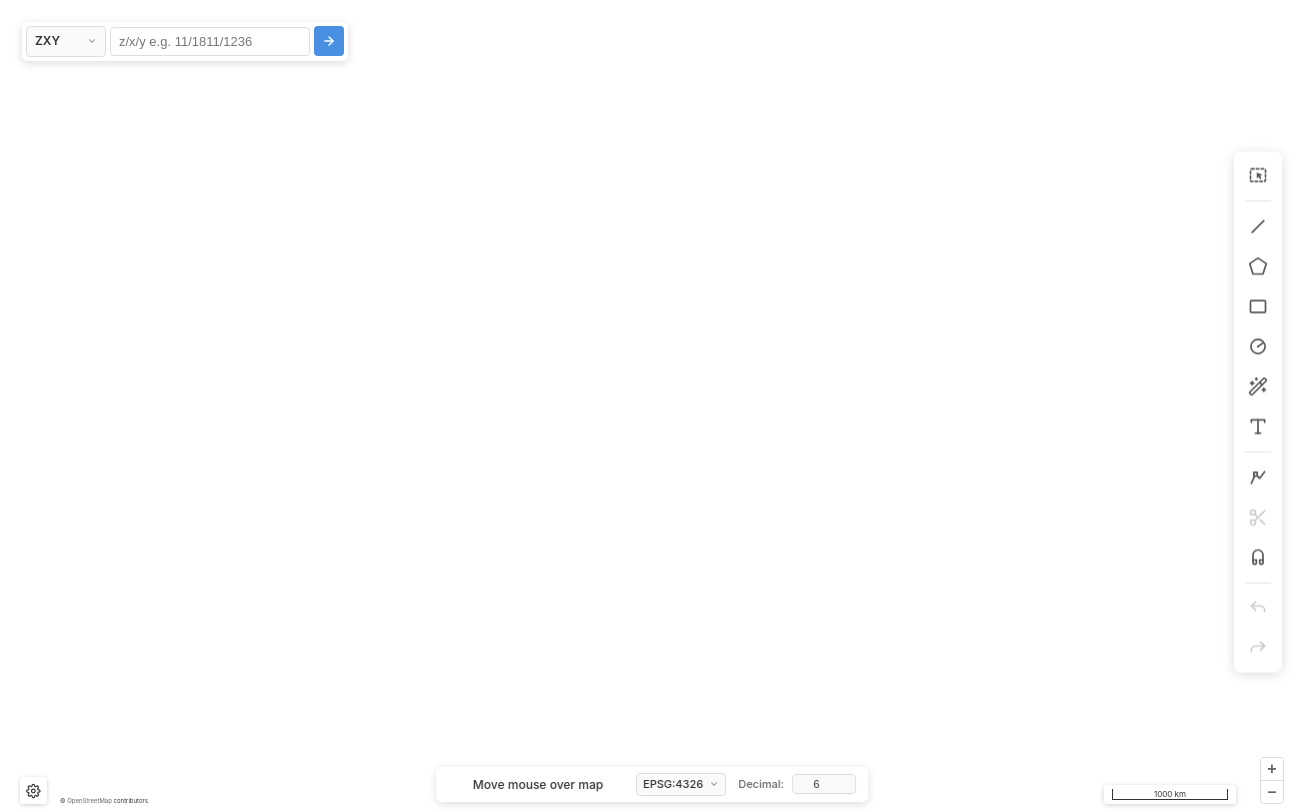
Scenario: the Settings footer theme toggle › sits immediately right of the lock button, in the footer
This screenshot has width=1304, height=812.
Click the button titled "Settings": (33,791) [20,777,47,804]
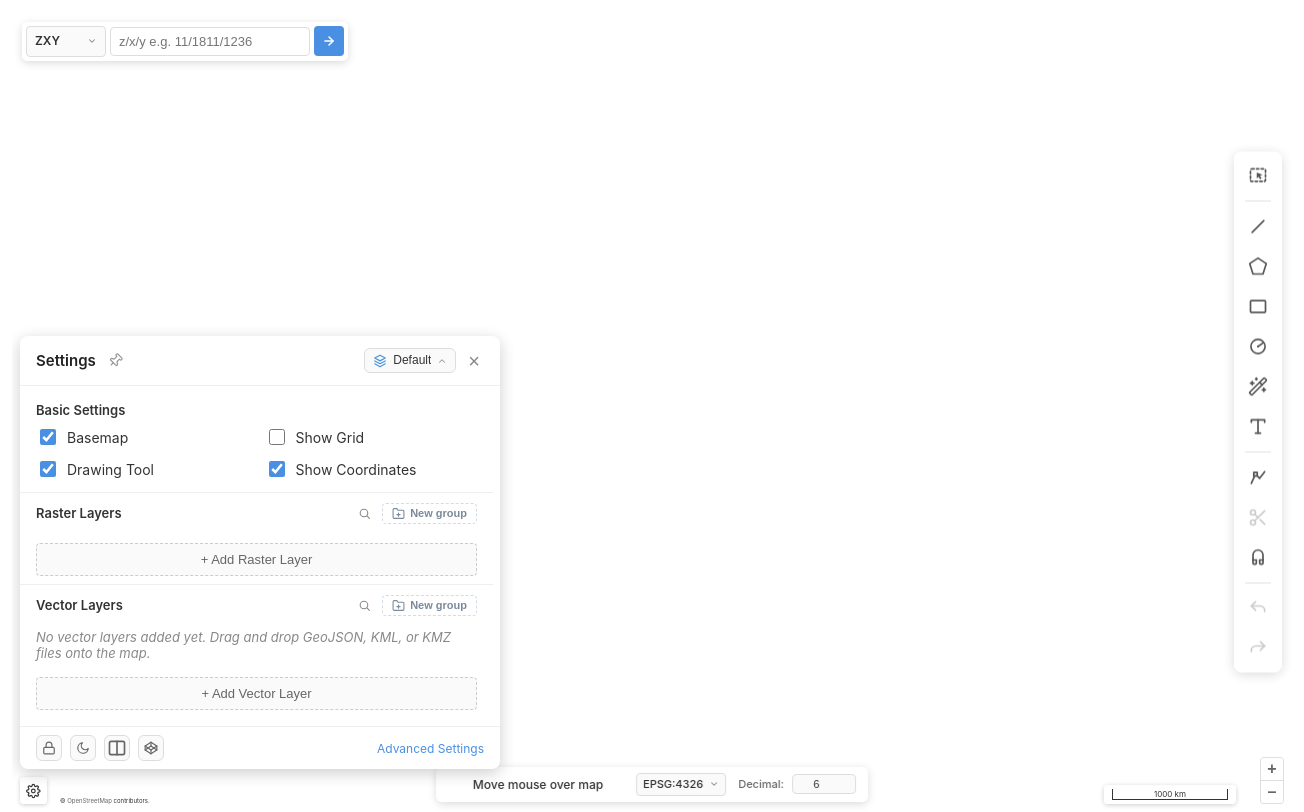
Check: the element with class "settings-footer-left" is shown, box [36,735,164,761]
